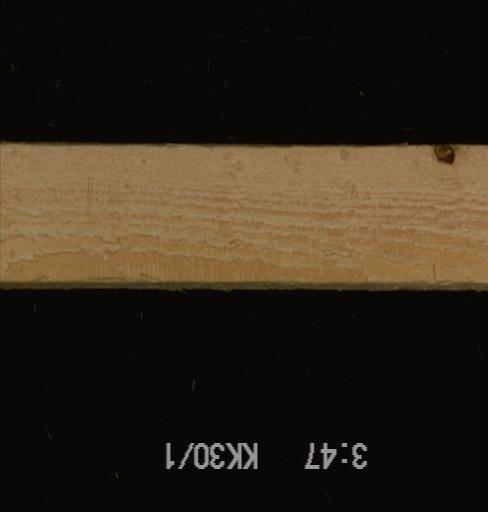edge_knot: (431, 143, 456, 165)
split: (79, 271, 127, 285)
